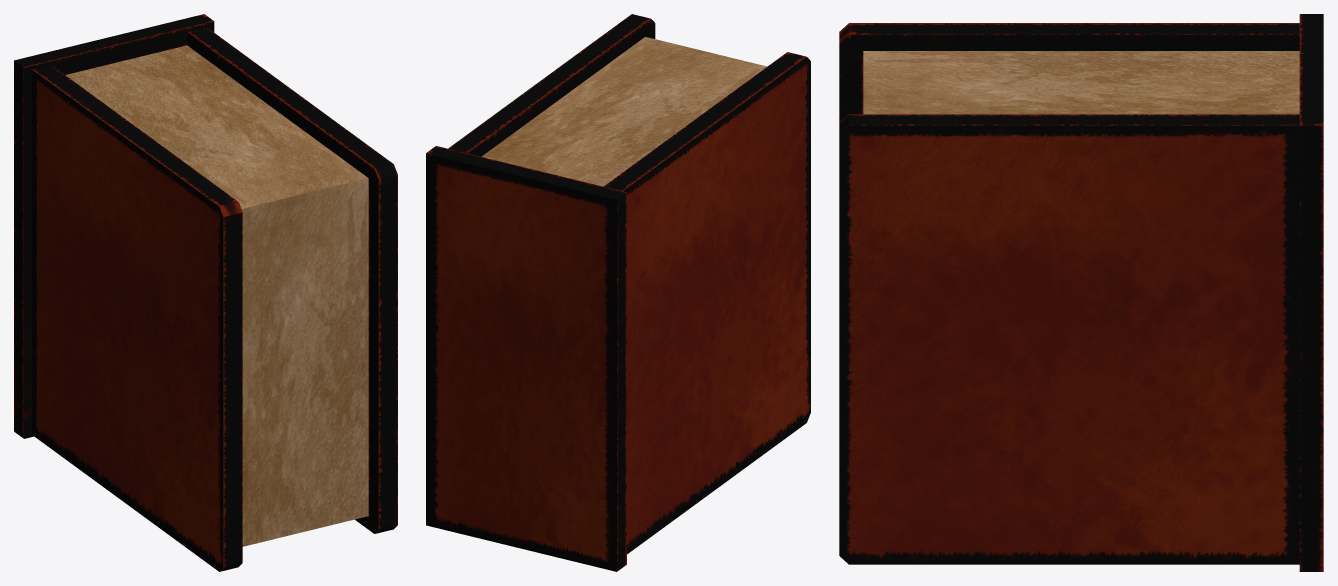
File: LargeBook.fbx
3 renders of one model, left to right at view 1: azimuth 30°, elevation 25°; view 2: azimuth 150°, elevation 25°; view 3: azimuth 270°, elevation 25°, orthographic. The views are drawn at different scales.
Parts seen in each view (by area): view 1: LargeBook; view 2: LargeBook; view 3: LargeBook.
Boxes of the visible parts, x1,y1,x2,y2 form: LargeBook: (14,14,397,571); LargeBook: (426,14,810,571); LargeBook: (839,14,1323,571).
Bounding box in the file's own units: 27.27 × 50.82 × 50.
